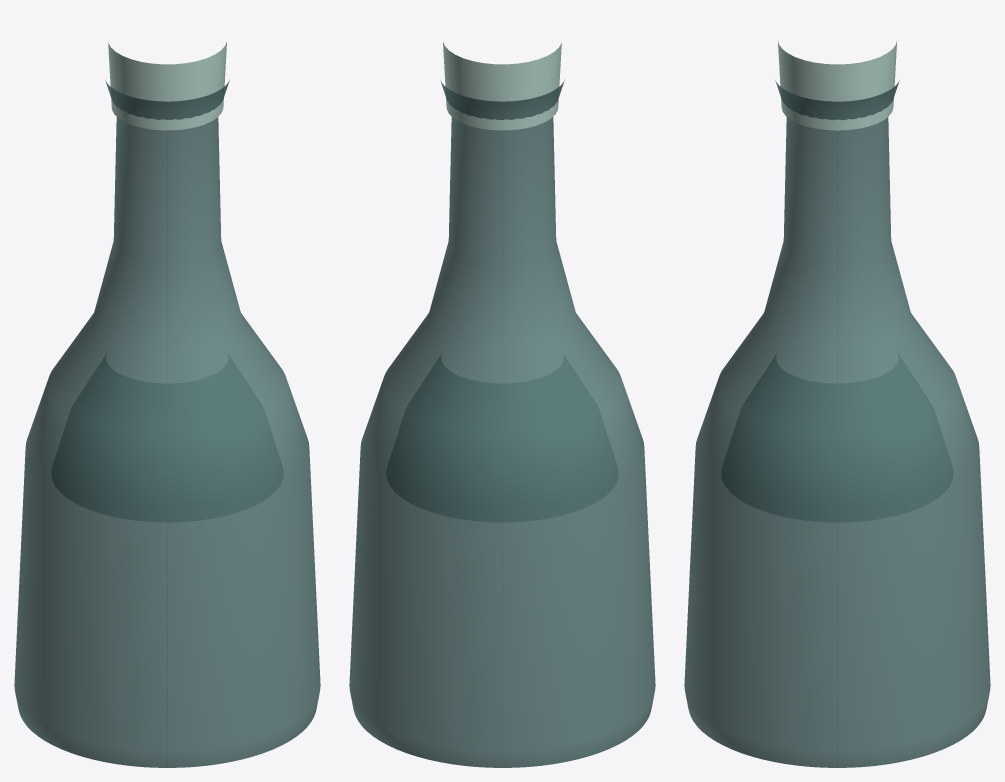
Rendered from hendricks-gin.glb.
3 views of the same model, side by side, from view 1: azimuth 30°, elevation 25°; view 2: azimuth 150°, elevation 25°; view 3: azimuth 270°, elevation 25° (orthographic).
Parts seen in each view (by area): view 1: body, cap; view 2: body, cap; view 3: body, cap.
Part boxes in pixels (bbox=[...]): body: bbox=[14, 80, 320, 767]; cap: bbox=[108, 41, 226, 130]; body: bbox=[349, 80, 655, 767]; cap: bbox=[443, 41, 561, 130]; body: bbox=[684, 80, 990, 767]; cap: bbox=[777, 40, 897, 130].
Bounding box in the file's own units: 0.41 × 0.9835 × 0.41.
